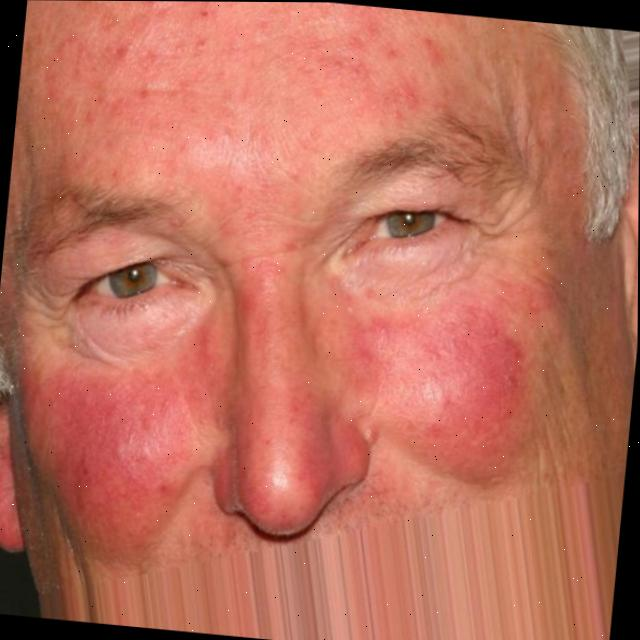Rosacea: (44, 0, 450, 222), (204, 225, 387, 550), (0, 317, 237, 566), (301, 275, 560, 497)
